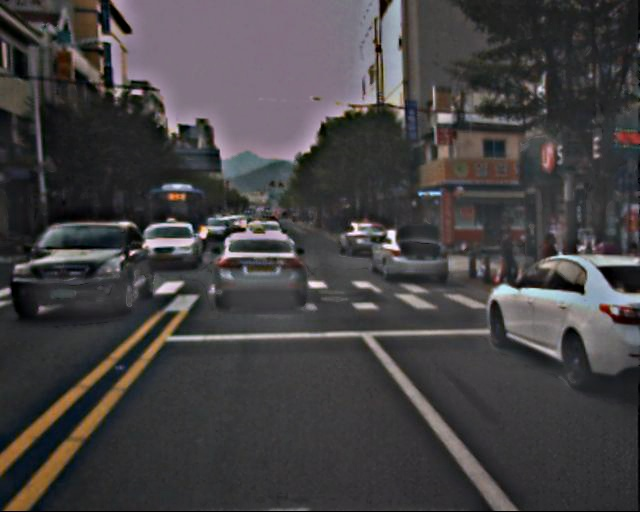person: (535, 234, 559, 293), (498, 225, 520, 286)
